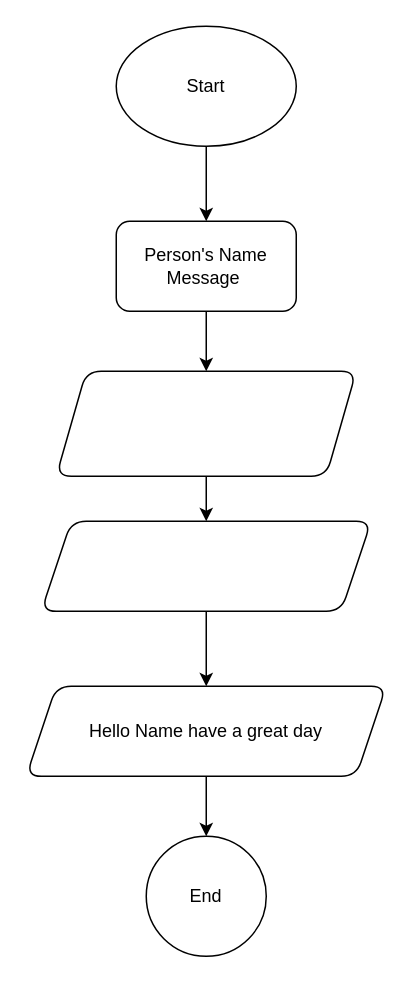
Some shapes in this 413 by 983 pixel diagram are drawn without their labels. The centre of each missing label's shape, as x and y in pixels:
Entre Your Message = "Hello", Name, "have a great day": (x=205, y=565)
Please Entre Person's Name: (x=205, y=423)
